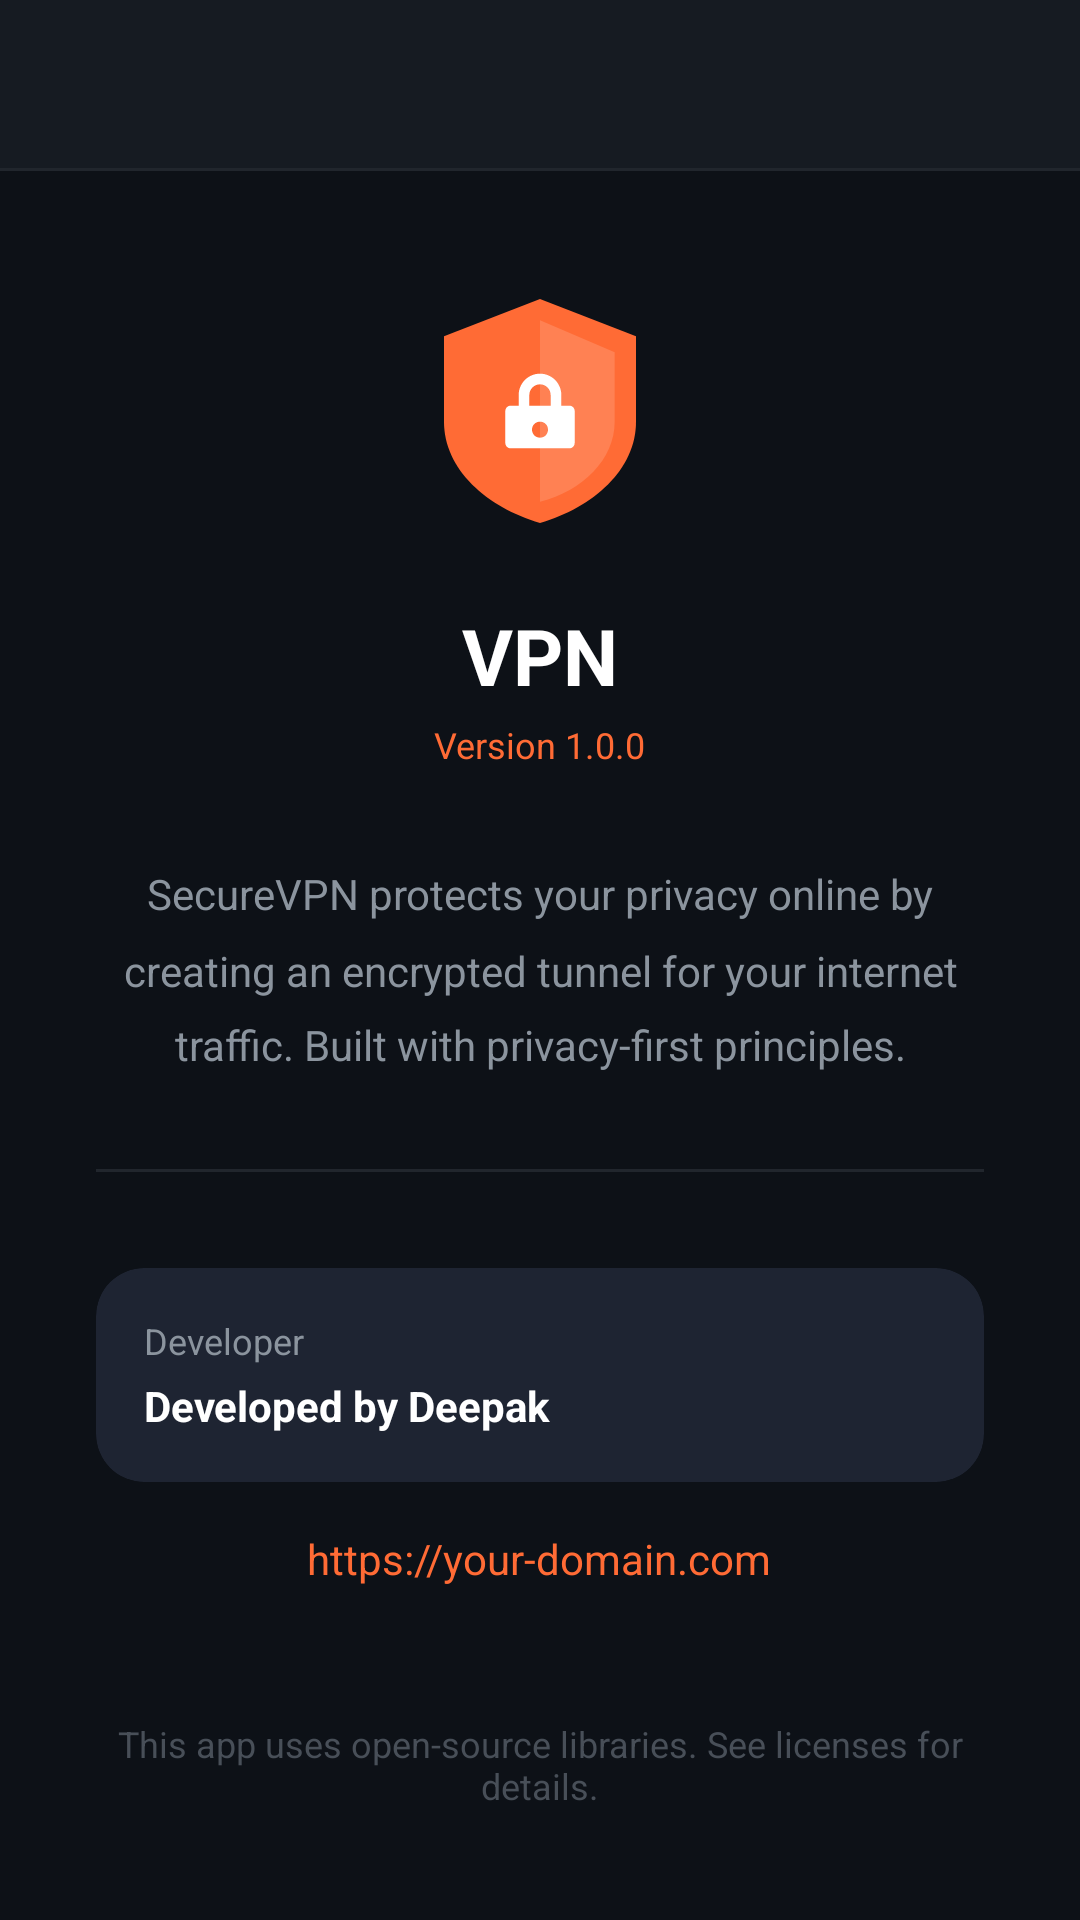

Named icons in this screenshot (1080px×1920px) and their centers, [x,y]:
vpn shield: [540,411]
